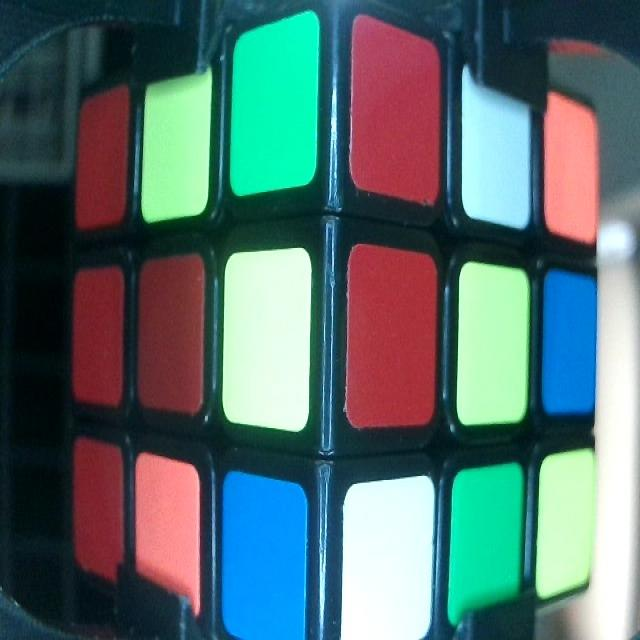b: (227, 474, 305, 636), (543, 274, 595, 419)
g: (230, 24, 318, 182), (452, 471, 522, 627)
o: (137, 457, 199, 611), (546, 104, 596, 242)
r: (349, 249, 436, 424), (353, 16, 435, 196), (138, 260, 202, 413), (76, 95, 126, 229), (74, 270, 118, 402), (75, 442, 116, 577)
w: (342, 488, 436, 640), (463, 69, 529, 225)
y: (224, 257, 307, 429), (460, 266, 529, 426), (144, 72, 211, 221), (540, 454, 594, 594)
